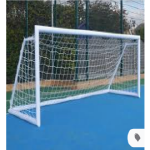goals: (7, 21, 143, 128)
